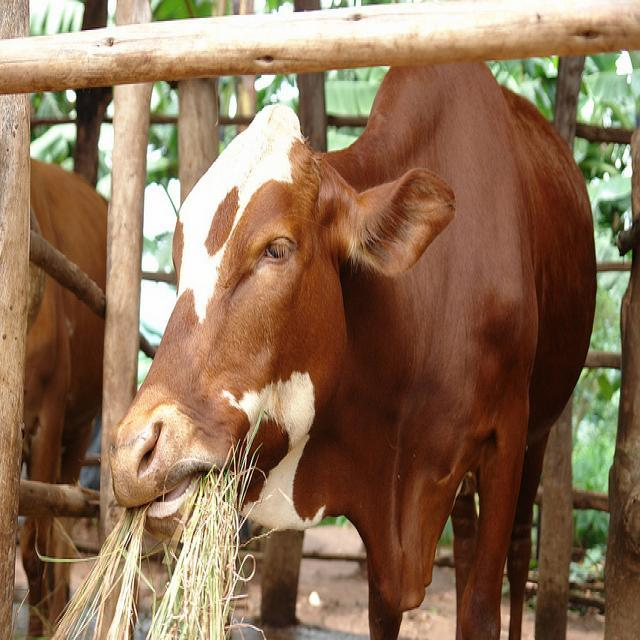cow: (110, 60, 594, 631), (17, 154, 107, 628)
